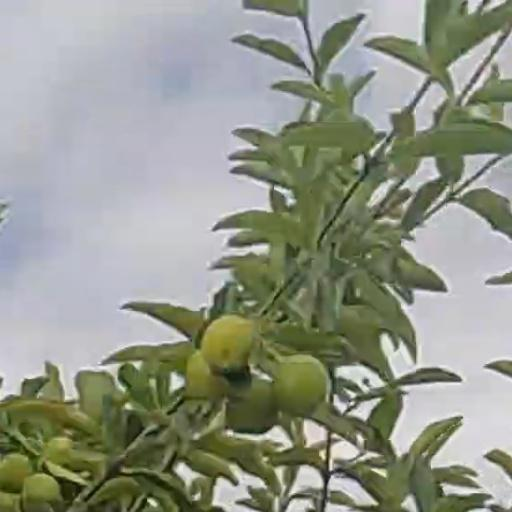acerola_verde: (276, 356, 328, 417), (202, 314, 253, 373), (228, 383, 276, 433), (189, 353, 221, 397)
